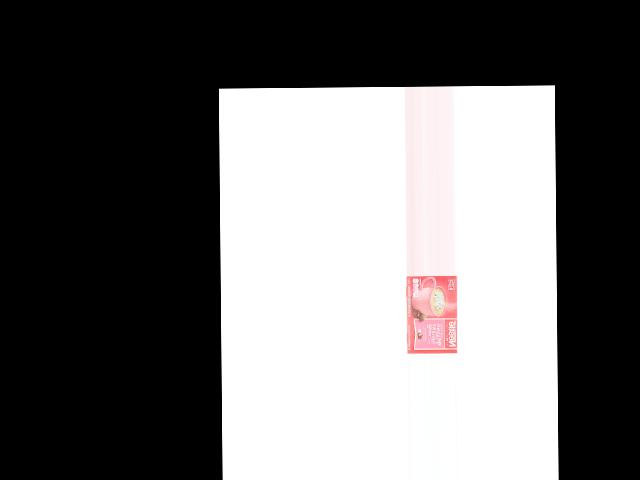chocolate: (403, 275, 455, 352)
